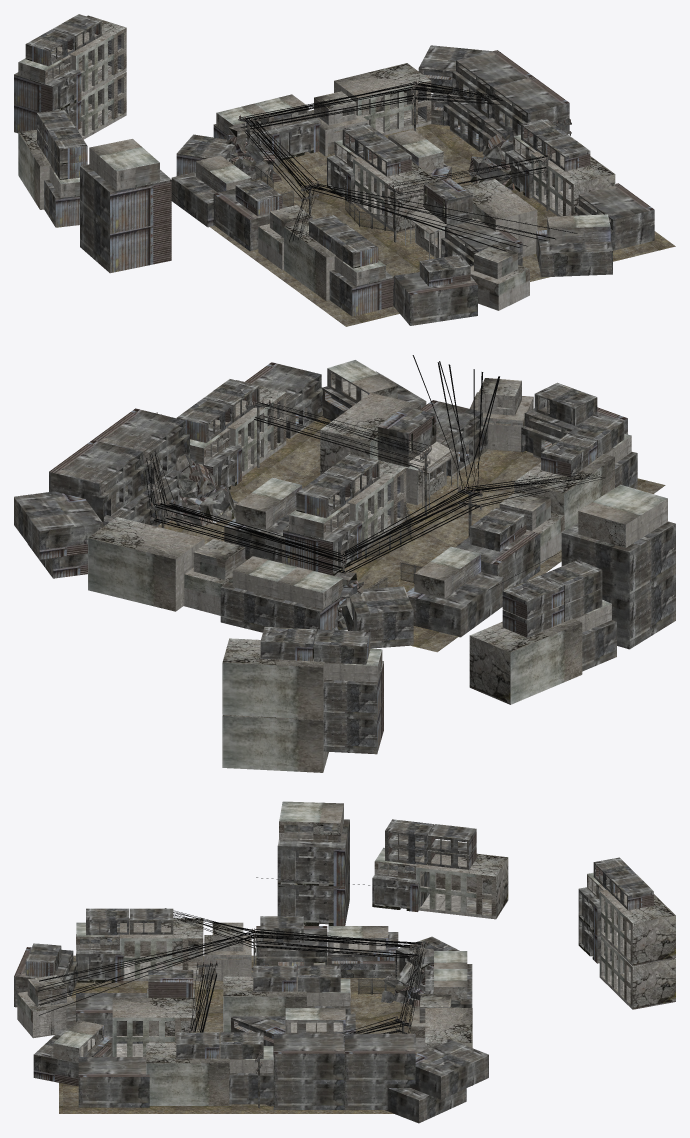
The model's file is isle_ruin.glb.
3 views of the same model, one above another, from view 1: azimuth 30°, elevation 25°; view 2: azimuth 150°, elevation 25°; view 3: azimuth 270°, elevation 25° (orthographic). The views are drawn at different scales.
Visible parts, largest first — view 1: ruin; view 2: ruin; view 3: ruin.
Boxes of the visible parts, box(x1,y1,x2,y2) form: ruin: box(14, 14, 675, 326); ruin: box(14, 355, 675, 772); ruin: box(14, 801, 675, 1123).
Size of the model in its own units: 52.34 by 12.68 by 64.4.
5 materials, 4 textured.
